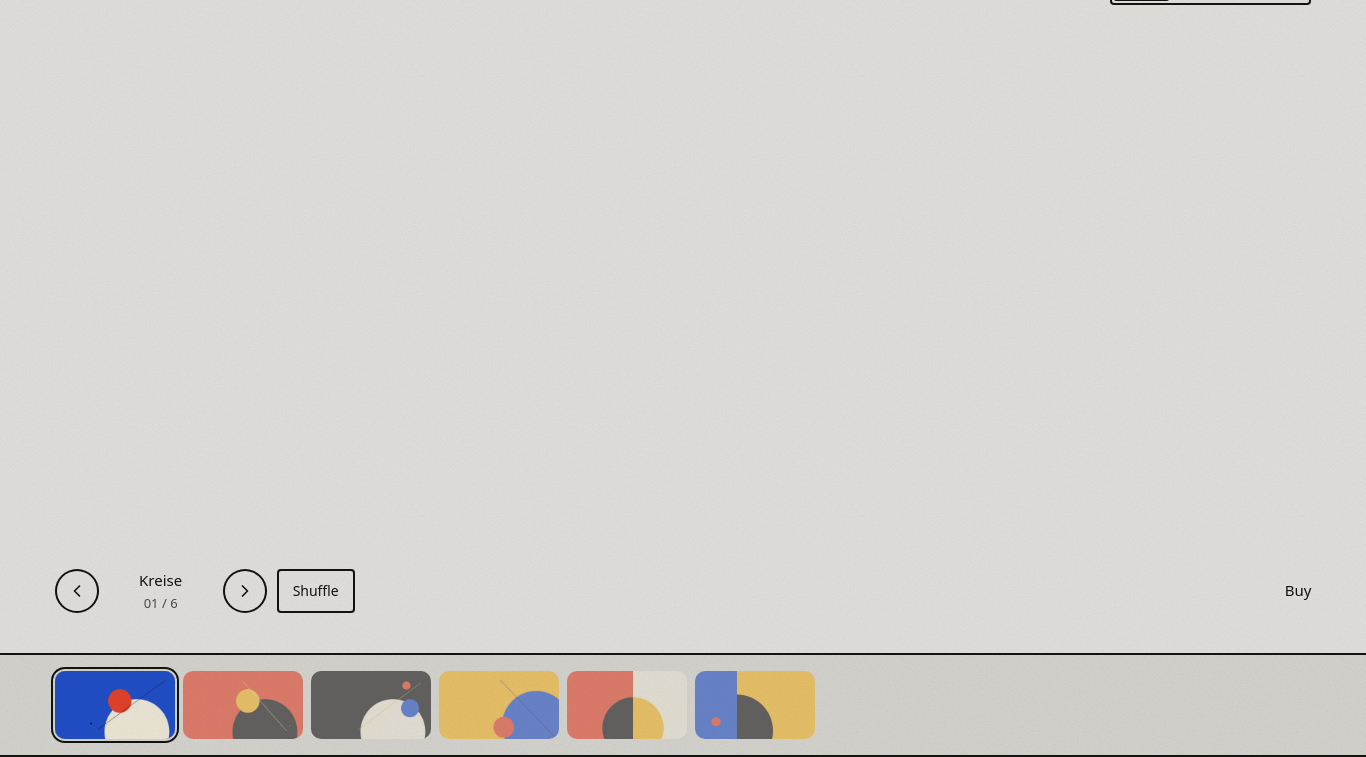
Test: PackShowcase › lists every piece as a thumbnail and marks the current one
(page scrolled)
Click the button named "Show design 4 of 6": click(499, 705) [439, 671, 559, 738]
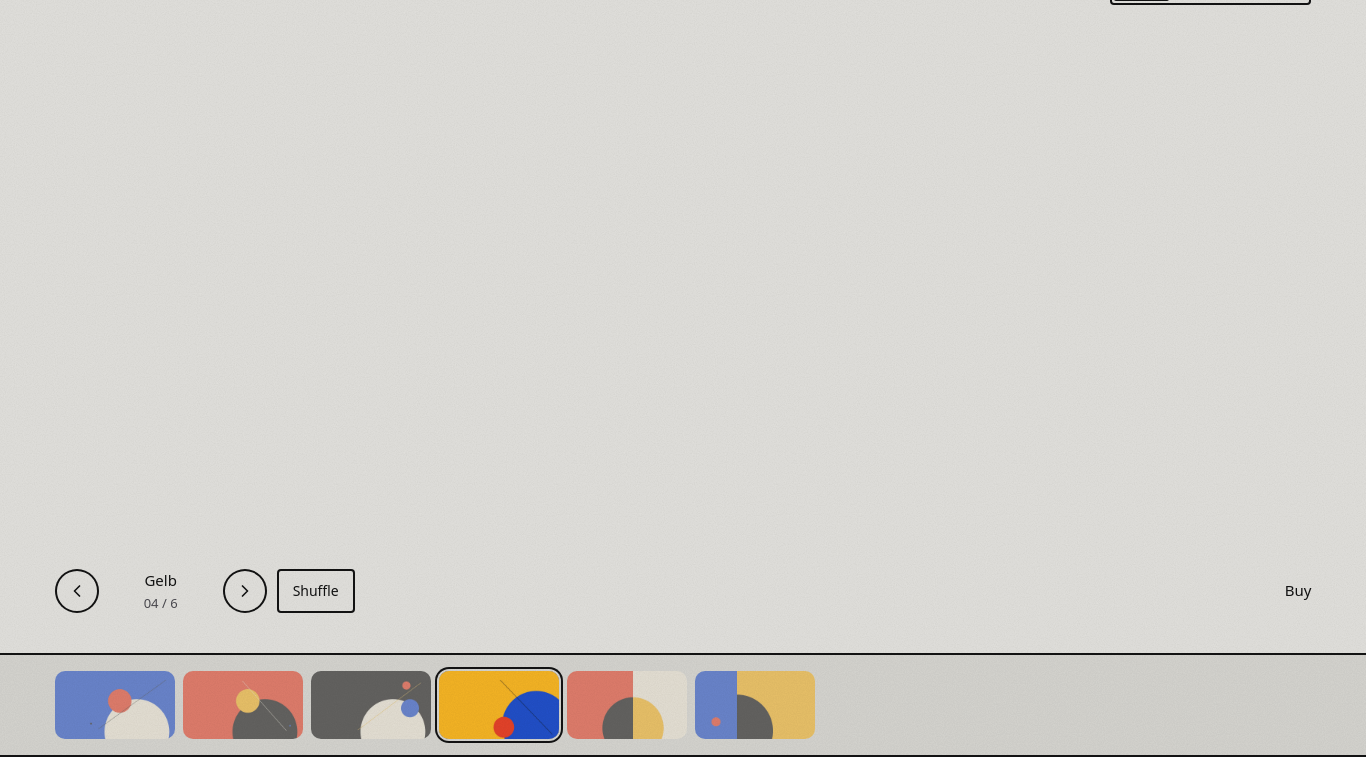
expect the text "04 / 6" is shown: met, box [144, 570, 178, 612]
